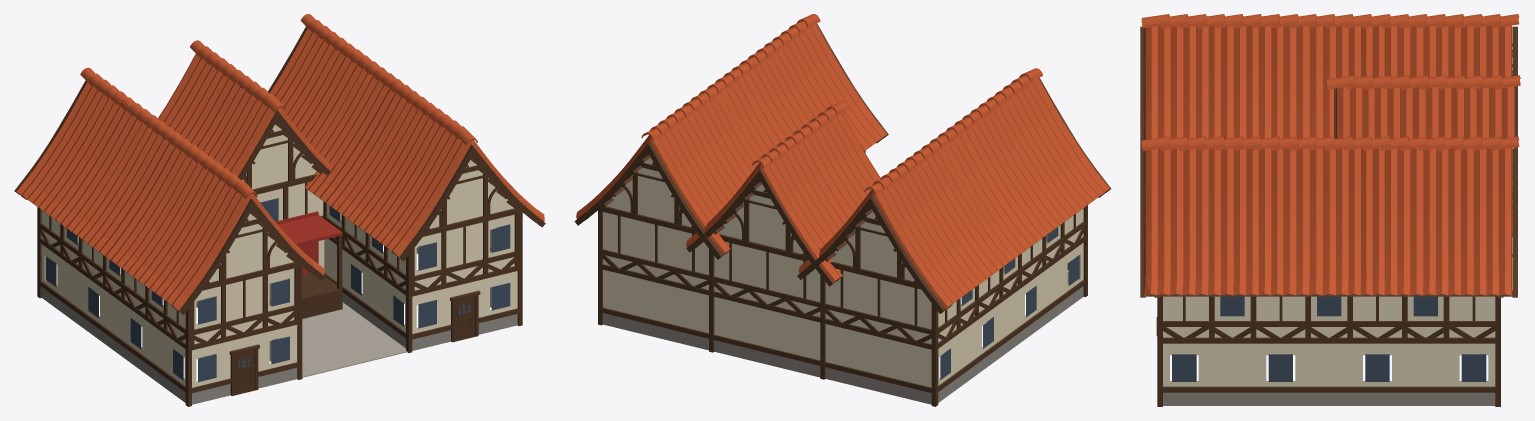
Rendered from playhouse.obj.
3 renders of one model, left to right at view 1: azimuth 30°, elevation 25°; view 2: azimuth 150°, elevation 25°; view 3: azimuth 270°, elevation 25°, orthographic. The views are drawn at different scales.
Bounding box in the file's own units: 20.25 × 10.9 × 15.77.
